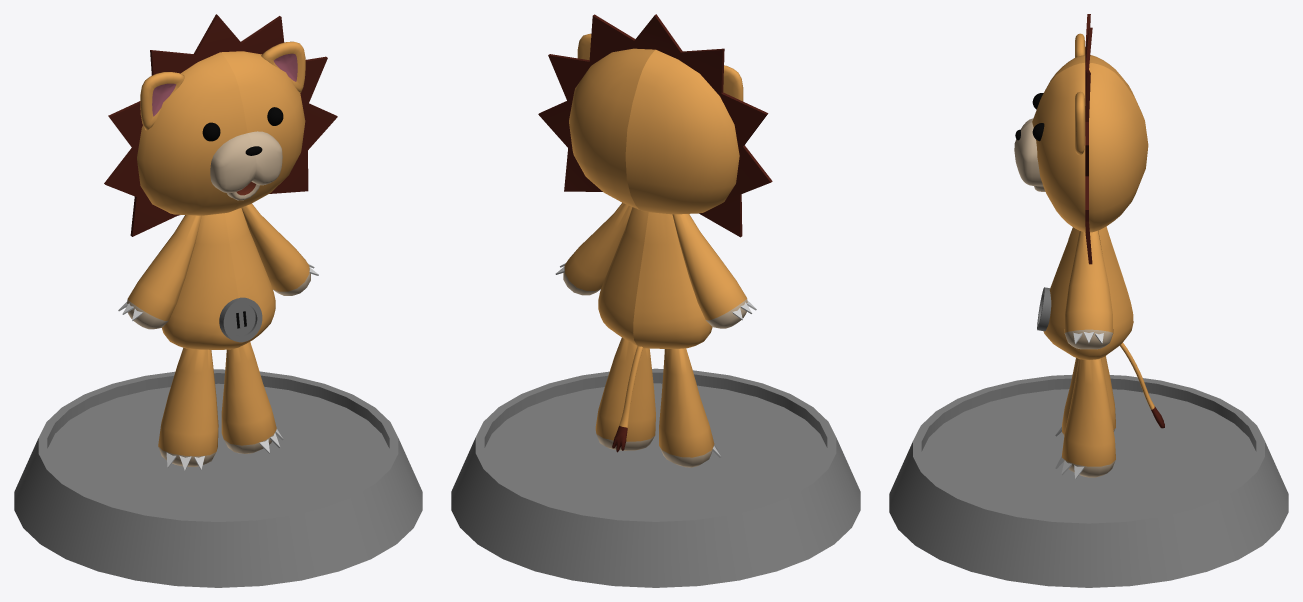
The model's file is bleach_-_kon.glb.
3 views of the same model, side by side, from view 1: azimuth 30°, elevation 25°; view 2: azimuth 150°, elevation 25°; view 3: azimuth 270°, elevation 25° (orthographic). The views are drawn at different scales.
Visible parts, largest first — view 1: Cylinder001, Box001_kon_govde_0, Box001_kon_yele_kuyruk_0, Box001_kon_pati_dudak_0, Box001_kon_dugme_0, Box001_kon_kulak_0, Box001_kon_pence_0, Box001_kon_goz_0; view 2: Cylinder001, Box001_kon_govde_0, Box001_kon_yele_kuyruk_0, Box001_kon_pati_dudak_0; view 3: Cylinder001, Box001_kon_govde_0, Box001_kon_pati_dudak_0, Box001_kon_yele_kuyruk_0.
Boxes of the visible parts, bbox=[...] form: Cylinder001: bbox=[14, 369, 422, 587]; Box001_kon_govde_0: bbox=[127, 41, 309, 456]; Box001_kon_yele_kuyruk_0: bbox=[104, 14, 337, 236]; Box001_kon_pati_dudak_0: bbox=[127, 131, 310, 466]; Box001_kon_dugme_0: bbox=[219, 297, 262, 342]; Box001_kon_kulak_0: bbox=[152, 53, 297, 116]; Box001_kon_pence_0: bbox=[118, 263, 318, 470]; Box001_kon_goz_0: bbox=[202, 107, 283, 141]; Cylinder001: bbox=[451, 368, 860, 587]; Box001_kon_govde_0: bbox=[564, 33, 746, 457]; Box001_kon_yele_kuyruk_0: bbox=[538, 14, 772, 452]; Box001_kon_pati_dudak_0: bbox=[563, 267, 747, 467]; Cylinder001: bbox=[889, 374, 1288, 587]; Box001_kon_govde_0: bbox=[1032, 33, 1154, 466]; Box001_kon_pati_dudak_0: bbox=[1014, 118, 1115, 477]; Box001_kon_yele_kuyruk_0: bbox=[1085, 14, 1164, 428].
Size of the model in its own units: 120 by 156 by 119.
